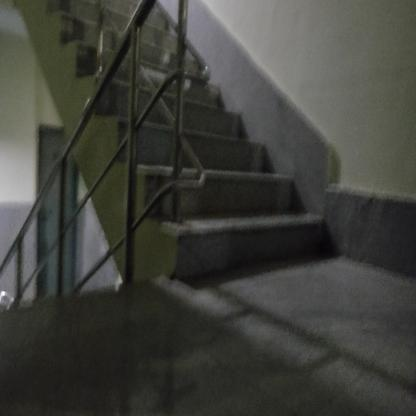stairs: (209, 139, 266, 272)
